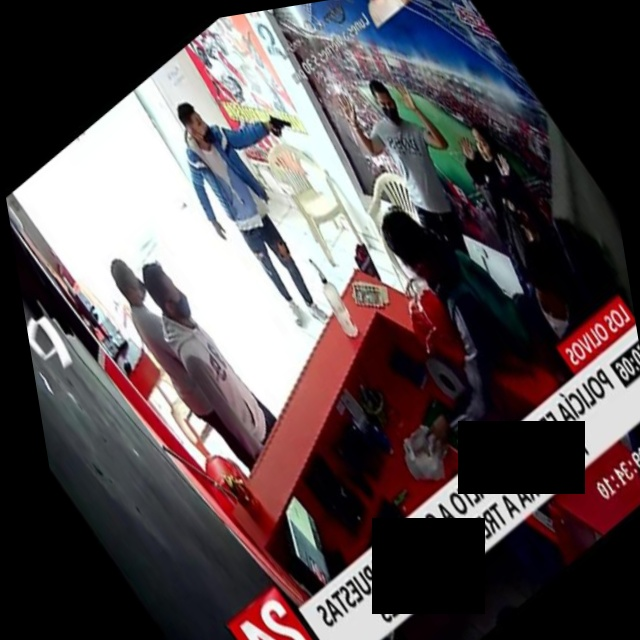gun: (245, 84, 308, 158)
